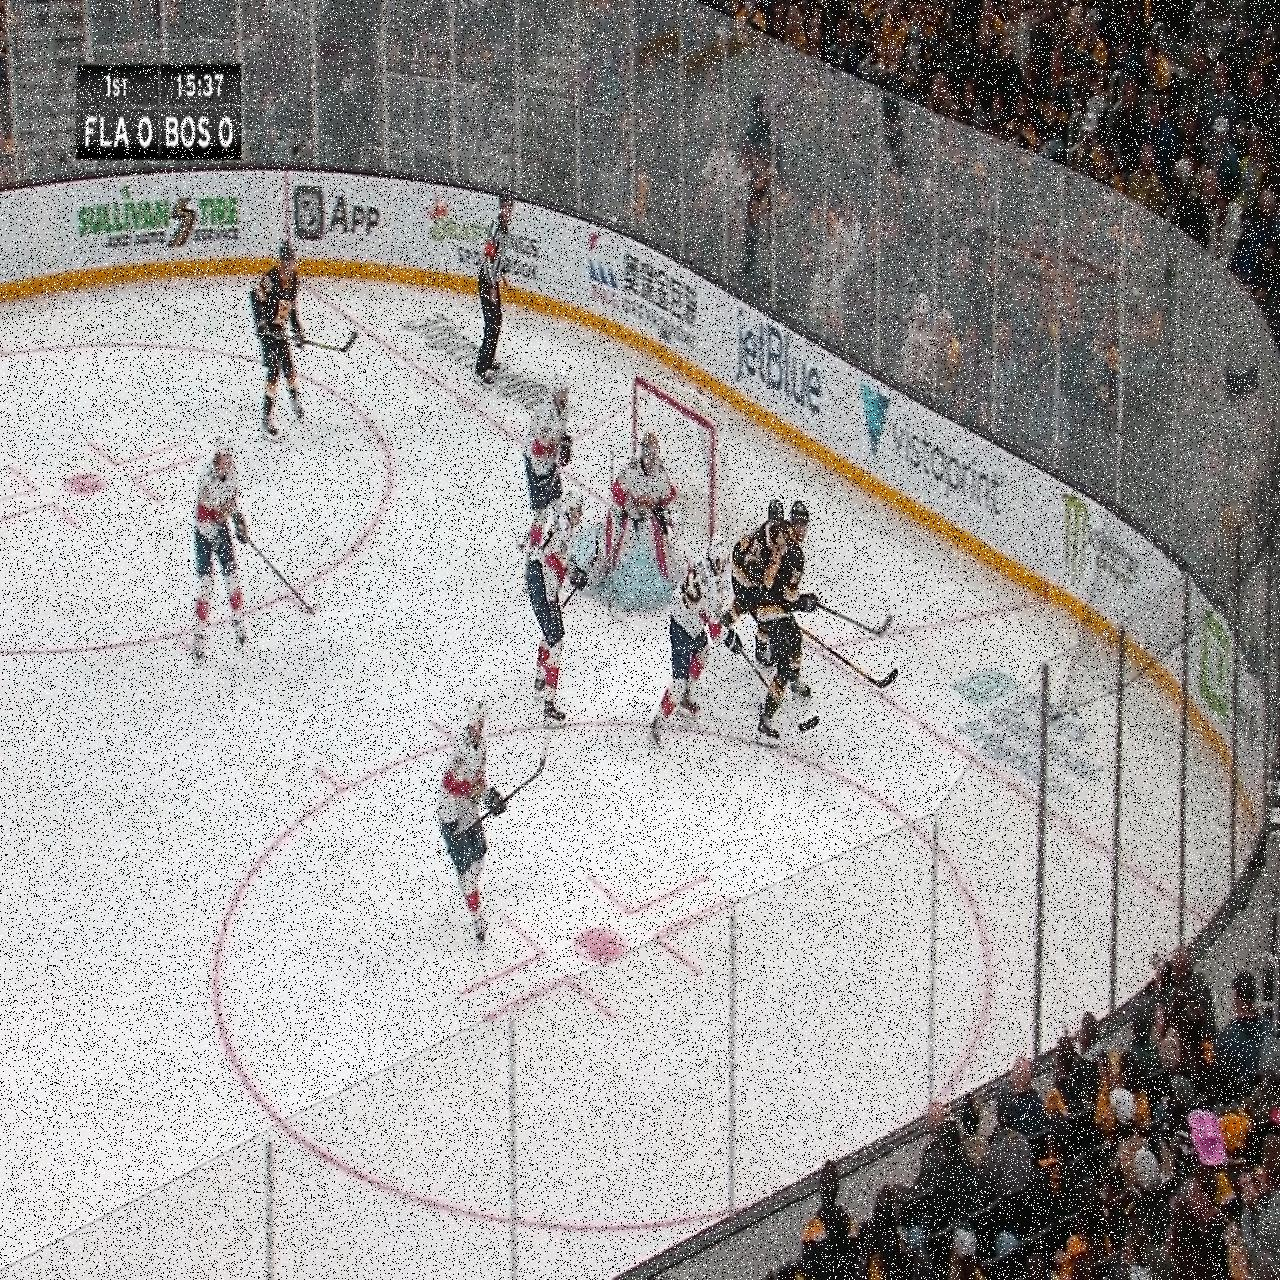Ad: (915, 655, 1114, 832), (855, 356, 1013, 545), (399, 306, 572, 427), (584, 220, 702, 373), (73, 176, 245, 271), (1196, 587, 1264, 795), (424, 182, 542, 299), (1064, 470, 1143, 635), (734, 294, 825, 429), (288, 173, 387, 260)
